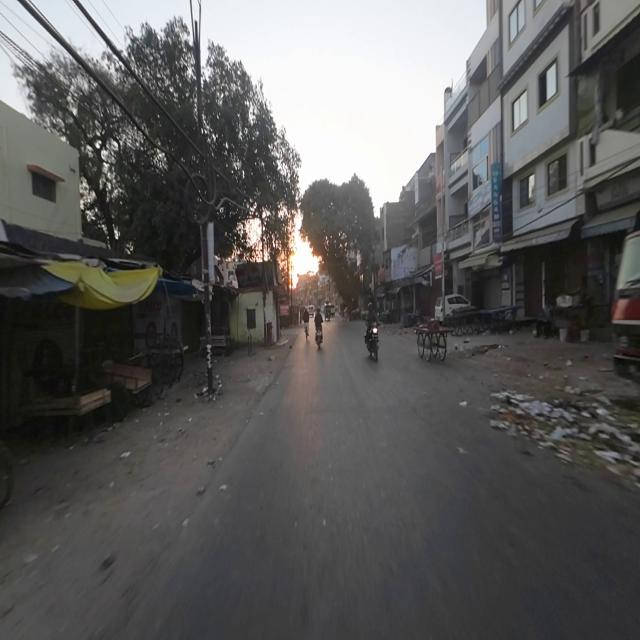Garbage: (493, 375, 638, 454)
